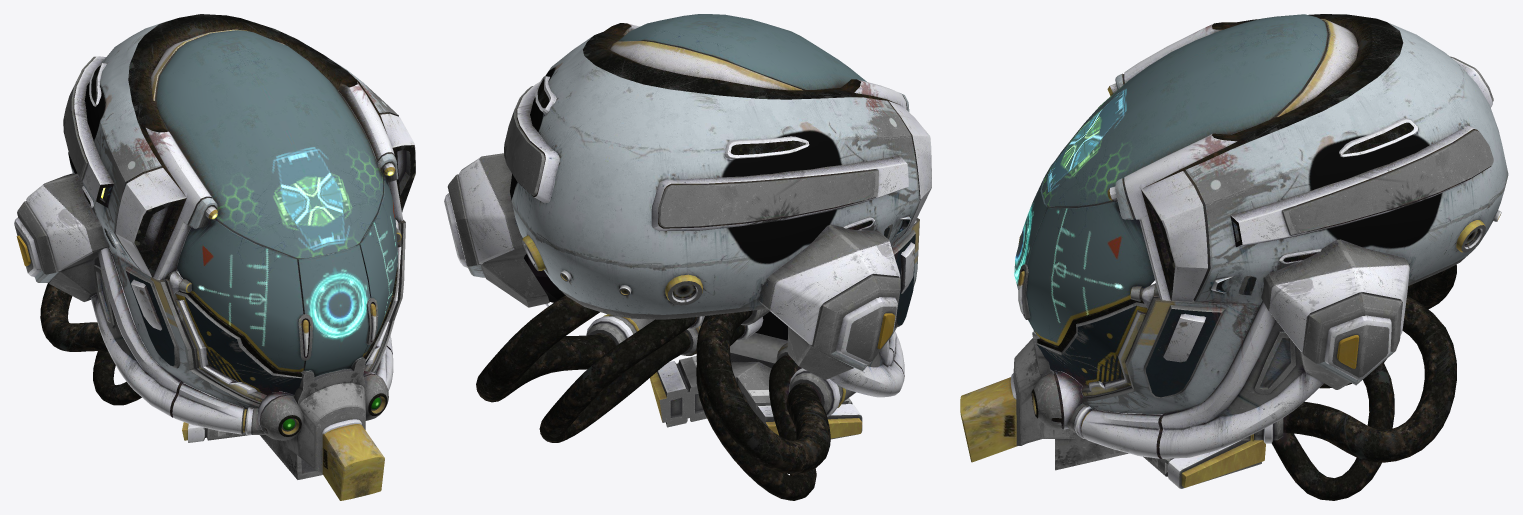
File: Helmet.glb
3 renders of one model, left to right at view 1: azimuth 30°, elevation 25°; view 2: azimuth 150°, elevation 25°; view 3: azimuth 270°, elevation 25°, orthographic. The views are drawn at different scales.
Visible parts, largest first — view 1: node_damagedHelmet_-6514; view 2: node_damagedHelmet_-6514; view 3: node_damagedHelmet_-6514.
Part boxes in pixels (bbox=[...]): node_damagedHelmet_-6514: bbox=[14, 14, 415, 500]; node_damagedHelmet_-6514: bbox=[444, 14, 931, 500]; node_damagedHelmet_-6514: bbox=[960, 14, 1508, 500].
Bounding box in the file's own units: 1.89 × 1.8 × 2.09.
Materials: 1 (1 with a texture image).
